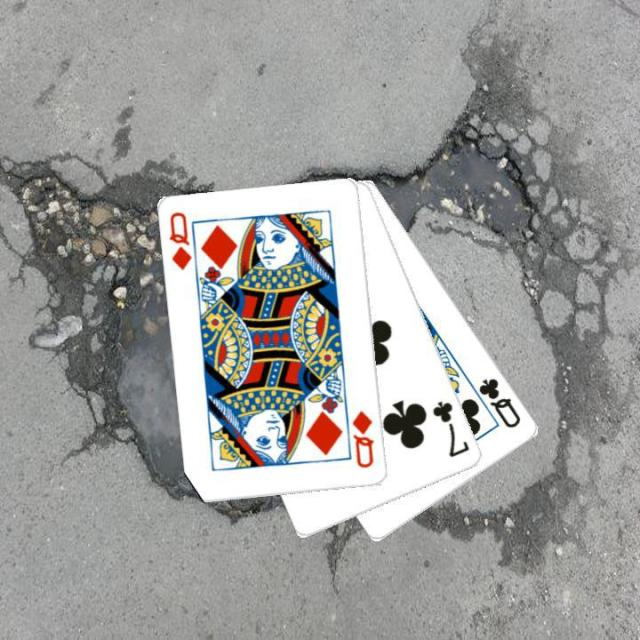7C: (428, 398, 472, 460)
QC: (474, 374, 524, 430)
QD: (165, 208, 194, 273), (348, 407, 376, 470)
